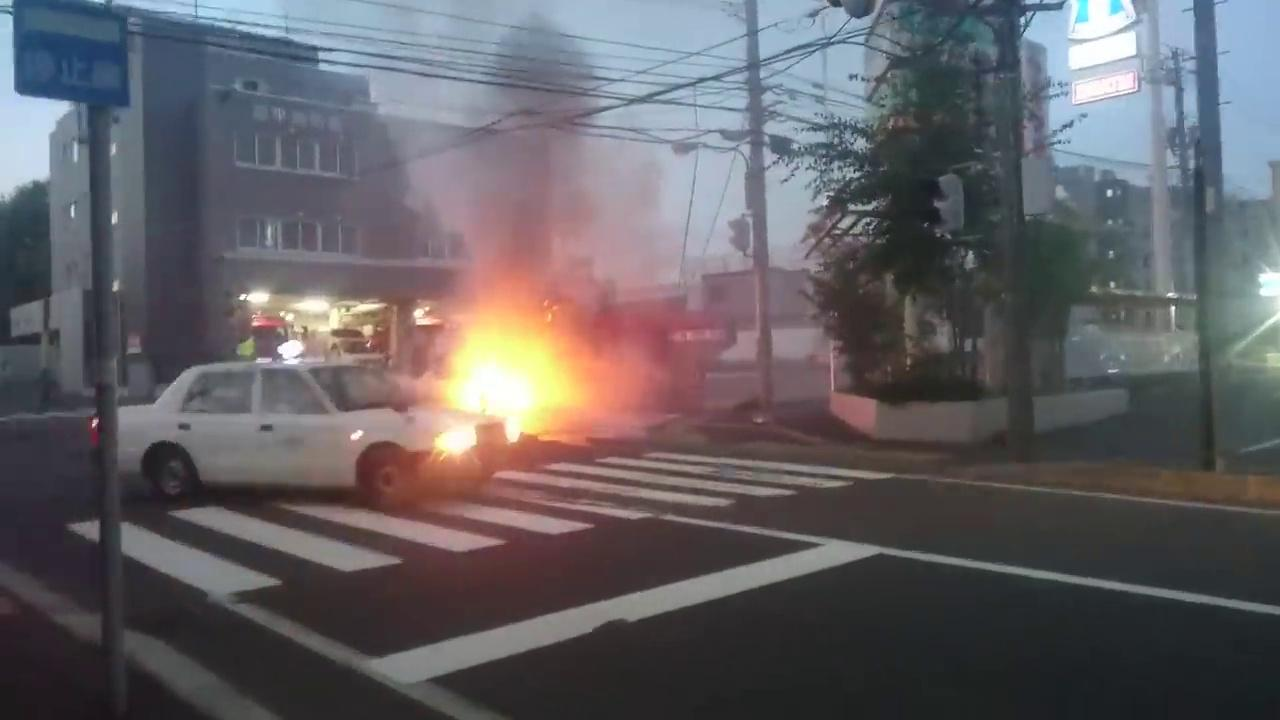Fire: (435, 320, 579, 452)
